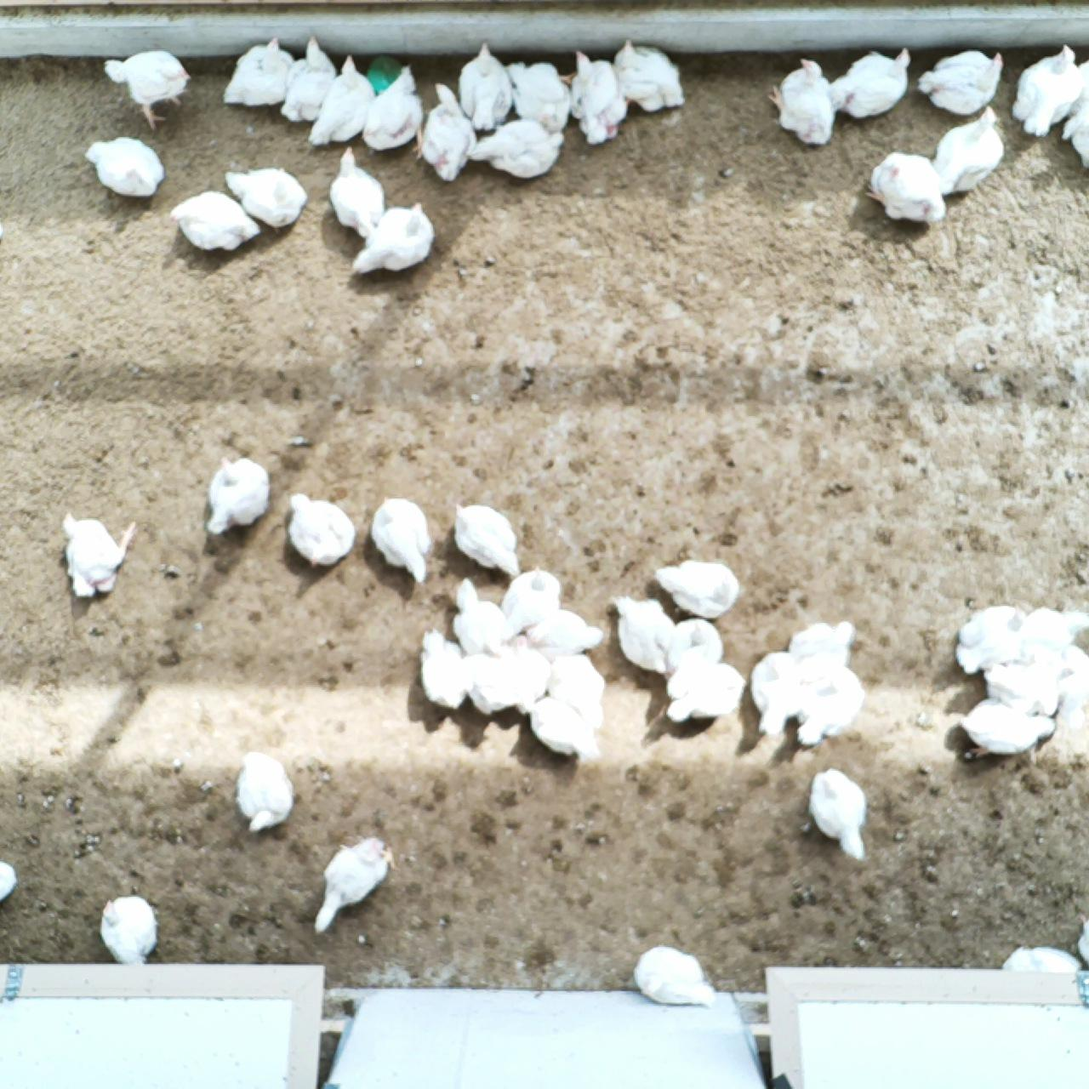chicken: (307, 834, 401, 940), (102, 48, 193, 130), (59, 509, 139, 599), (768, 56, 840, 154), (466, 116, 568, 185), (307, 49, 378, 148), (1010, 41, 1083, 136), (934, 102, 1007, 197), (914, 41, 1006, 116), (862, 147, 948, 225), (352, 200, 440, 275), (793, 667, 869, 753), (808, 763, 872, 865), (957, 697, 1057, 762), (168, 188, 263, 256), (832, 44, 913, 120), (201, 452, 274, 536), (567, 47, 630, 143), (947, 605, 1029, 678), (421, 79, 478, 184), (361, 64, 428, 153), (633, 944, 721, 1011), (286, 490, 357, 571), (223, 164, 308, 231), (277, 36, 341, 124), (654, 557, 742, 621), (455, 38, 513, 135), (612, 37, 687, 112), (220, 36, 298, 108), (231, 748, 297, 833), (659, 664, 748, 727), (326, 145, 387, 236), (454, 501, 524, 579), (610, 594, 674, 679), (369, 494, 430, 582), (86, 135, 168, 200), (505, 59, 572, 136), (546, 653, 613, 730), (531, 700, 602, 771), (416, 626, 470, 714), (748, 649, 803, 735), (500, 629, 558, 709), (502, 564, 563, 640), (98, 893, 160, 965), (523, 610, 606, 662), (1020, 603, 1089, 663), (453, 576, 505, 652), (460, 648, 518, 712), (786, 618, 857, 670), (667, 617, 727, 672), (999, 940, 1083, 975), (1056, 649, 1089, 729), (986, 658, 1030, 710), (1029, 650, 1063, 717), (1061, 94, 1089, 172), (0, 857, 19, 904)
